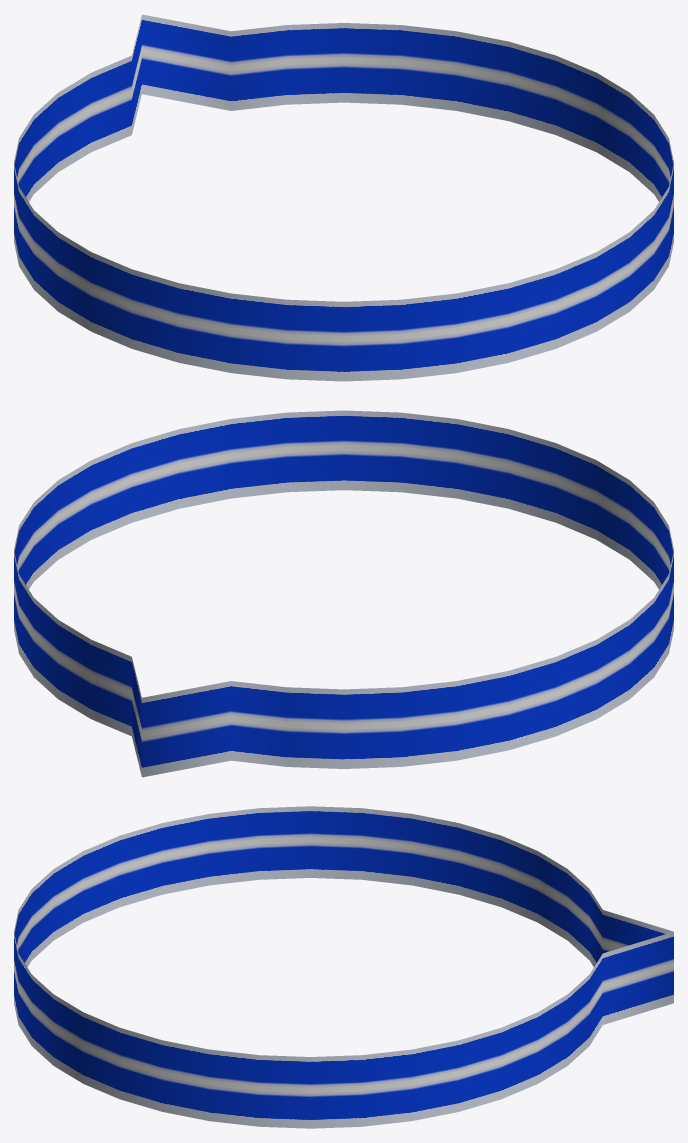
Rendered from selectedRing.FBX.
3 renders of one model, top to bottom at view 1: azimuth 30°, elevation 25°; view 2: azimuth 150°, elevation 25°; view 3: azimuth 270°, elevation 25°, orthographic. The views are drawn at different scales.
Parts seen in each view (by area): view 1: Cylinder002; view 2: Cylinder002; view 3: Cylinder002.
Part boxes in pixels (box(x1,y1,x2,y2)): Cylinder002: box(14, 14, 673, 381); Cylinder002: box(14, 410, 673, 777); Cylinder002: box(14, 806, 673, 1128).
Size of the model in its own units: 81.49 by 10.86 by 90.64.
Materials: 1 (1 with a texture image).
